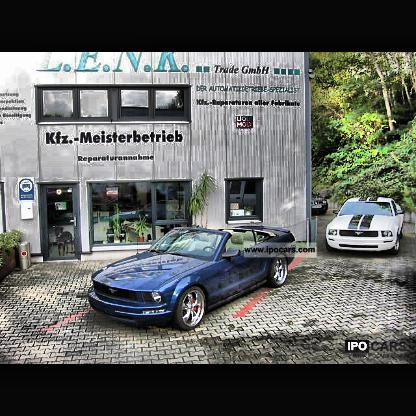Ford Mustang Convertible 2007: (86, 224, 306, 334)
